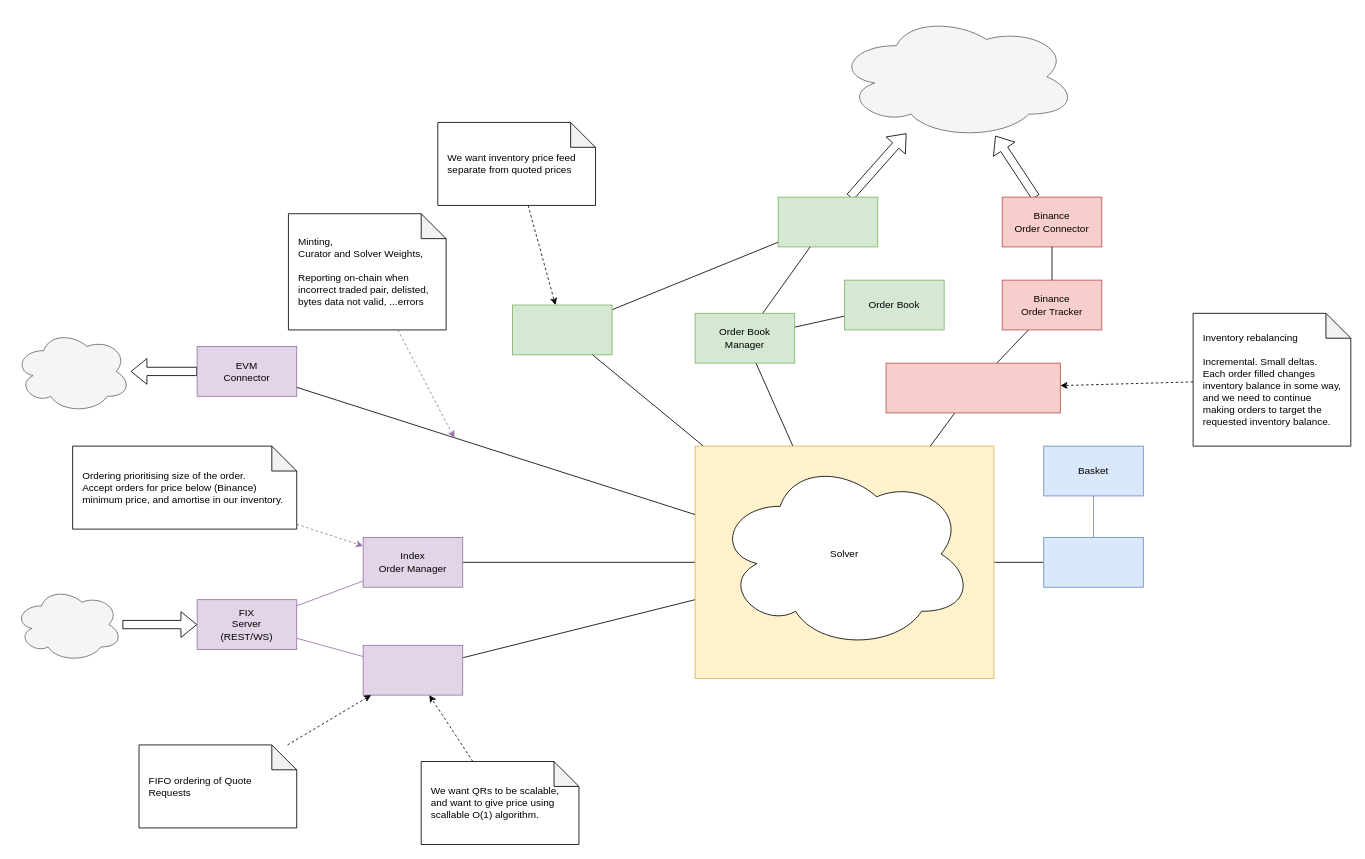
The diagram is 1365 pixels wide and 859 high, and some of its shapes have lost their labels. The shapes that lost their labels are listed below. From the top down, each one's centre as x and y in pixels, then its label:
the point at 956,76: Binance
the point at 827,221: Binance Market Data Connector
the point at 562,329: Binance Price Tracker
the point at 72,371: Smart Contracts
the point at 972,387: Inventory Manager
the point at 1093,562: Basket Manager
the point at 68,624: Web App
the point at 412,669: Index Quote Manager
